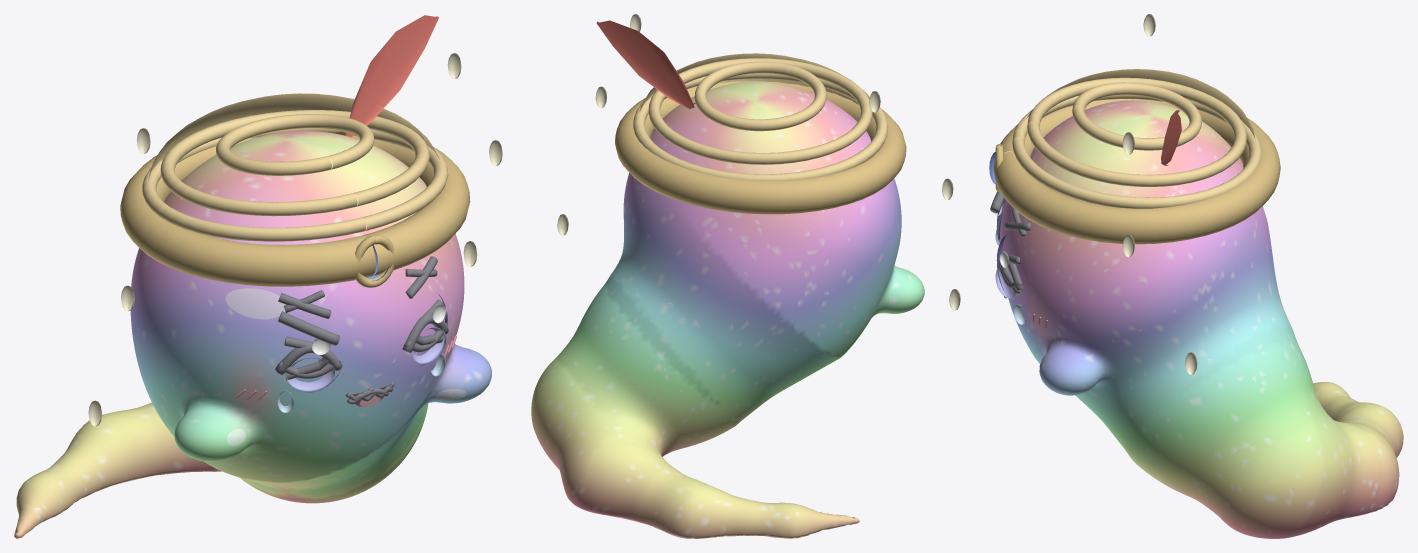
The model's file is e_genie_rainbow_slime.glb.
3 views of the same model, side by side, from view 1: azimuth 30°, elevation 25°; view 2: azimuth 150°, elevation 25°; view 3: azimuth 270°, elevation 25° (orthographic). The views are drawn at different scales.
Visible parts, largest first — view 1: BodyMesh, face_eyes_normal, face_eyes_happy, face_brows_angry, face_eyes_strain, face_brow_smug, face_eyes_closed; view 2: BodyMesh; view 3: BodyMesh, face_eyes_normal.
Boxes of the visible parts, left/top/right/bottom form: BodyMesh: left=14, top=15, right=502, bottom=538; face_eyes_normal: left=286, top=292, right=447, bottom=392; face_eyes_happy: left=275, top=315, right=448, bottom=374; face_brows_angry: left=278, top=256, right=437, bottom=318; face_eyes_strain: left=284, top=299, right=443, bottom=380; face_brow_smug: left=278, top=311, right=339, bottom=345; face_eyes_closed: left=277, top=322, right=447, bottom=378; BodyMesh: left=531, top=14, right=960, bottom=538; BodyMesh: left=989, top=14, right=1403, bottom=538; face_eyes_normal: left=994, top=199, right=1017, bottom=301.
Size of the model in its own units: 2.11 by 2.24 by 1.99.
